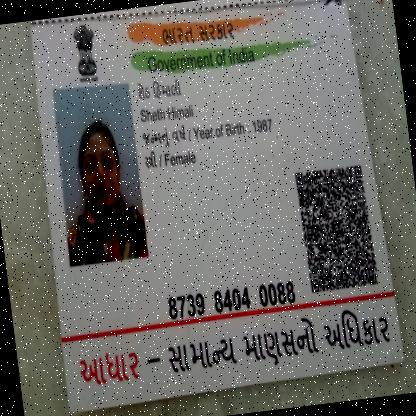aadhaar_card: (28, 0, 405, 405)
